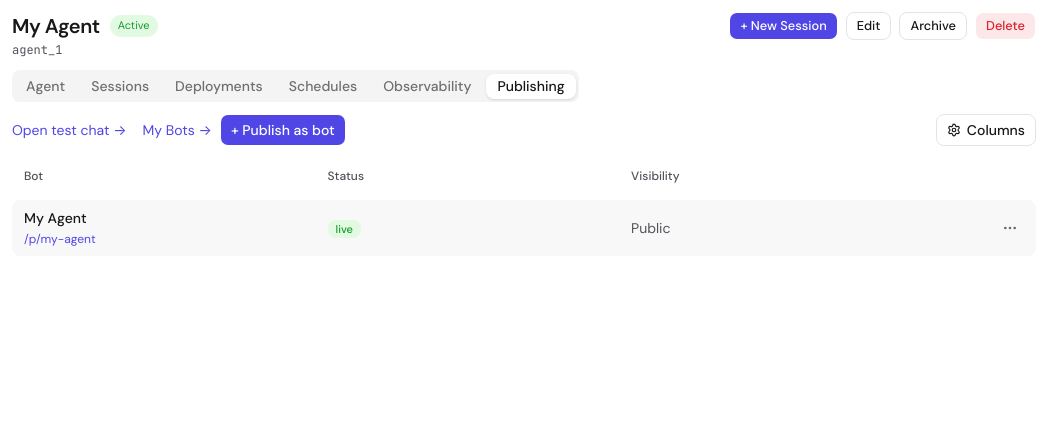
<AgentPublishingTab /> › pauses a live publication via the row actions menu
Expected: the text "live" is shown, [328,220,361,238]
What coordinates should you click on to do the following:
click the button named "Actions for My Agent"
I would click on:
 (1010, 228)
Its box is [996,214,1024,242].
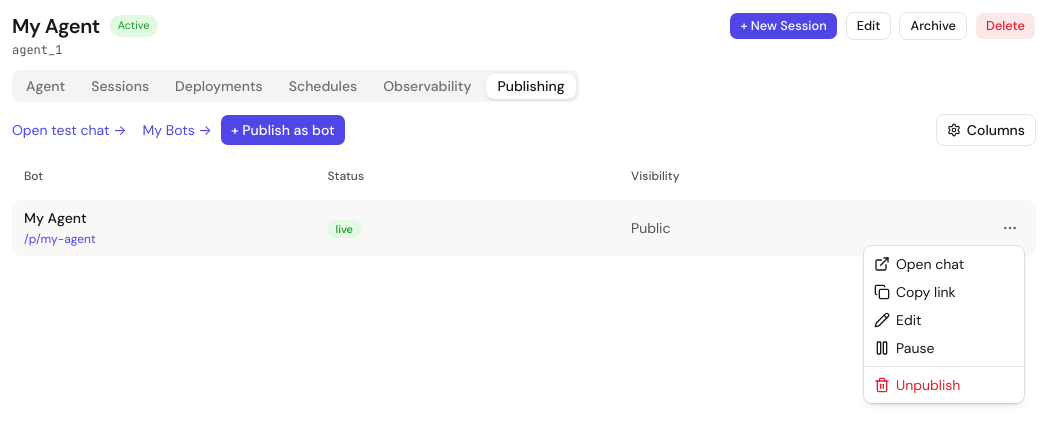
What coordinates should you click on to do the following:
click the menu item "Pause"
I would click on:
 (904, 348)
Its box is [874,339,934,357].
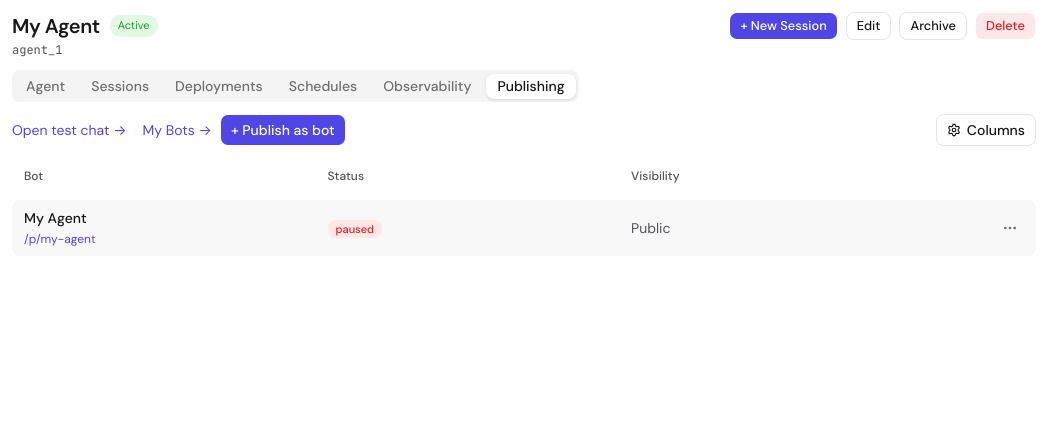
Expected: the text "paused" is shown, [328,220,382,238]
